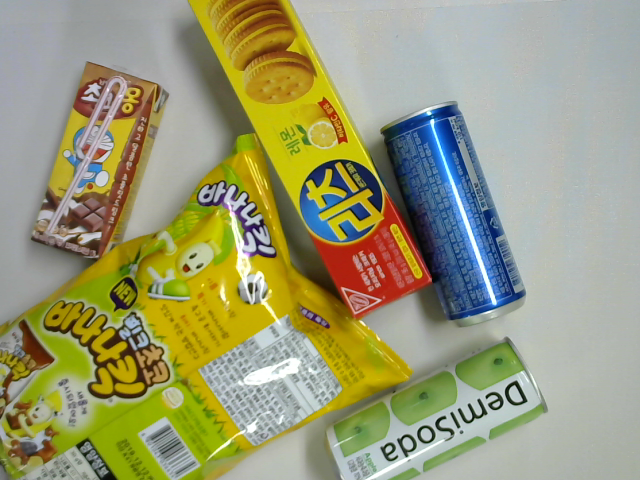Banana_Kick: (1, 132, 416, 480)
Choco_E_Mong: (31, 57, 172, 260)
Demisoda_Apple_Can_250ml: (323, 337, 551, 480)
Pepsi_Cola_Can_250ml: (379, 99, 527, 330)
Ritz_Remon_96g: (188, 1, 438, 322)
